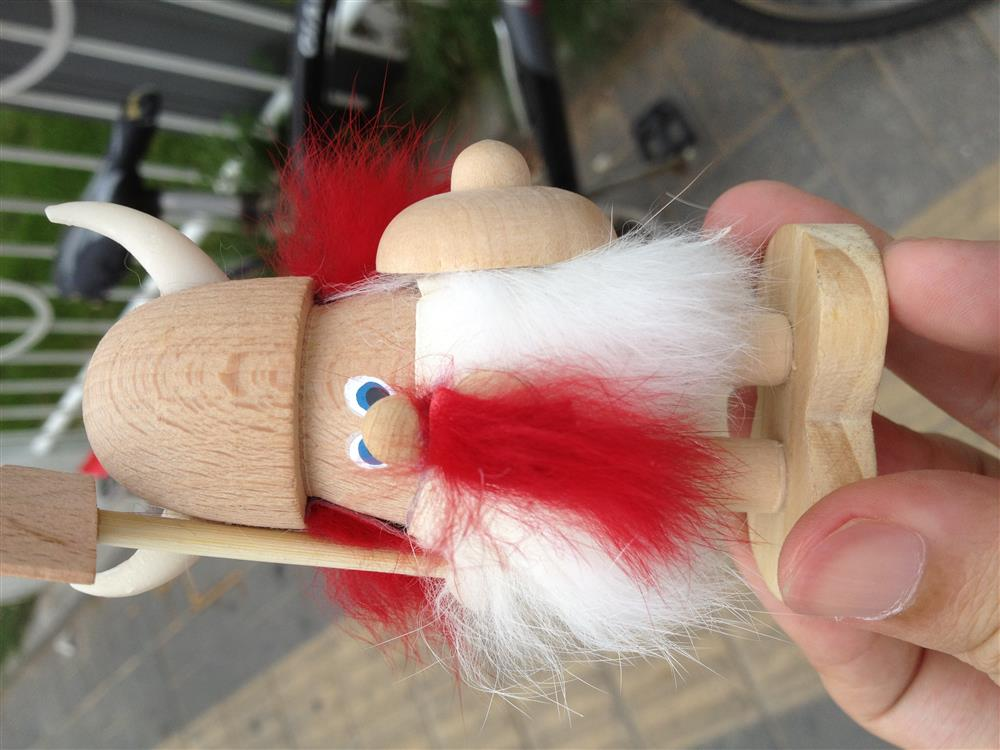dwarf: (1, 133, 894, 620)
